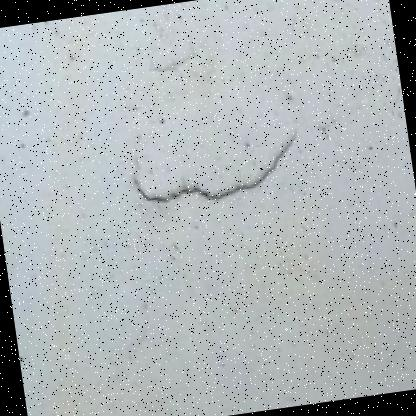Crack: (114, 101, 324, 243)
